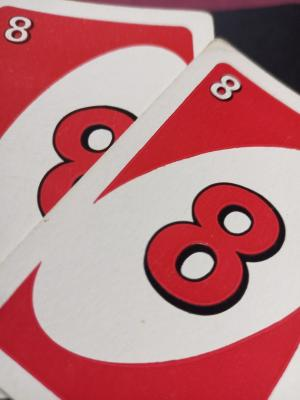num_8: (31, 98, 142, 223), (1, 7, 40, 52)
